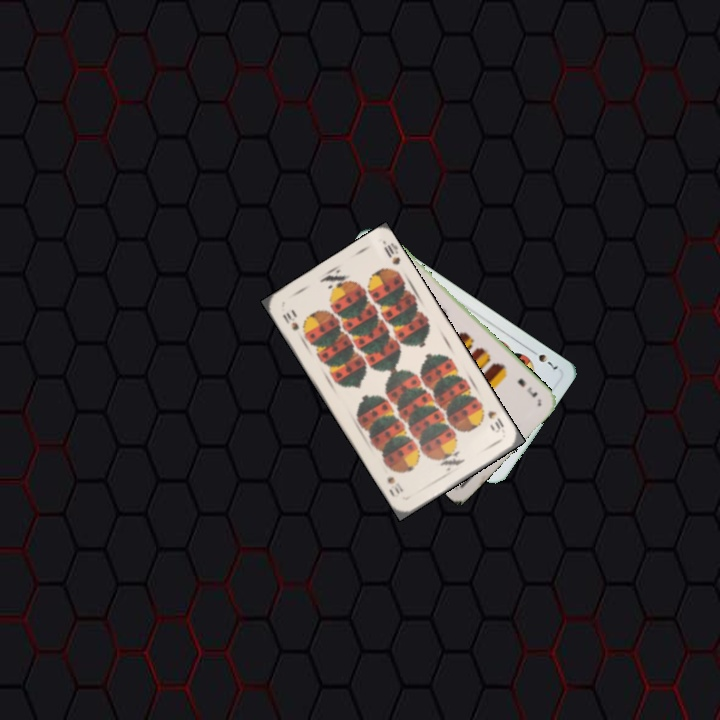E7: (513, 374, 540, 400)
S10: (483, 406, 507, 436), (278, 306, 302, 333)
S7: (525, 345, 561, 372)
